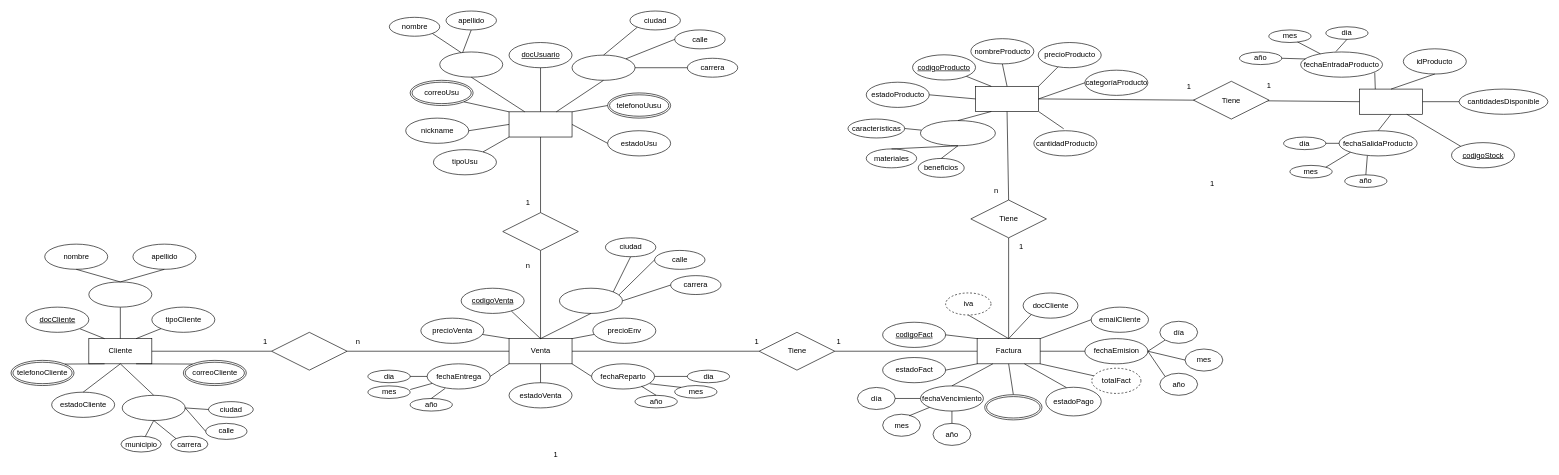
Image size: 1559x475. Some labels were removed from this diagram. Here are the shapes that lost their labels. From the top down, the centre of each, then its label:
point (471, 64): nombreUsu
point (603, 67): direcciónUsu
point (1007, 99): Producto
point (1391, 101): Stock
point (540, 124): Usuario
point (957, 133): descripciónProducto
point (540, 231): Genera
point (120, 294): nombreCliente
point (590, 300): direccionEnvio
point (309, 351): Realiza
point (153, 408): direcciónCliente
point (1013, 407): medioPago
